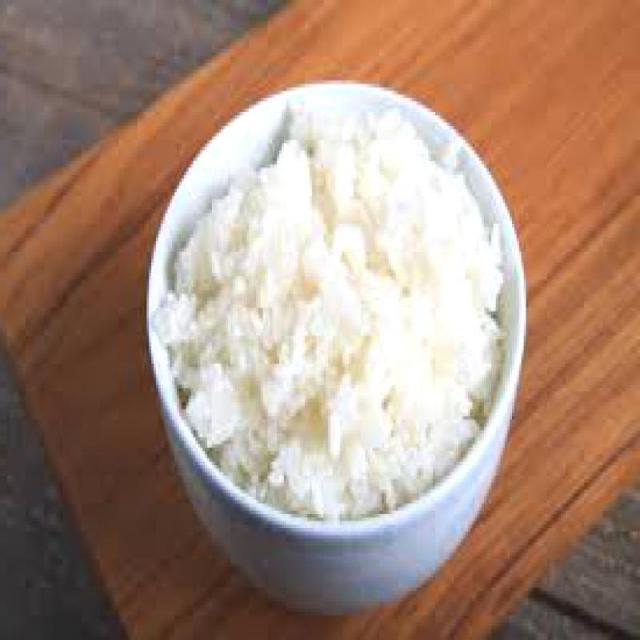Chicken -Chicken Inasal-: (163, 100, 497, 519)
